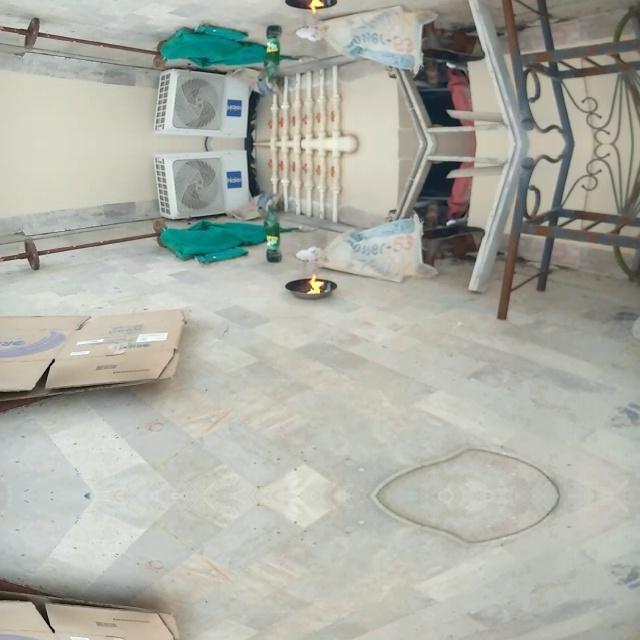smoke: (304, 271, 324, 293), (304, 0, 323, 17)
